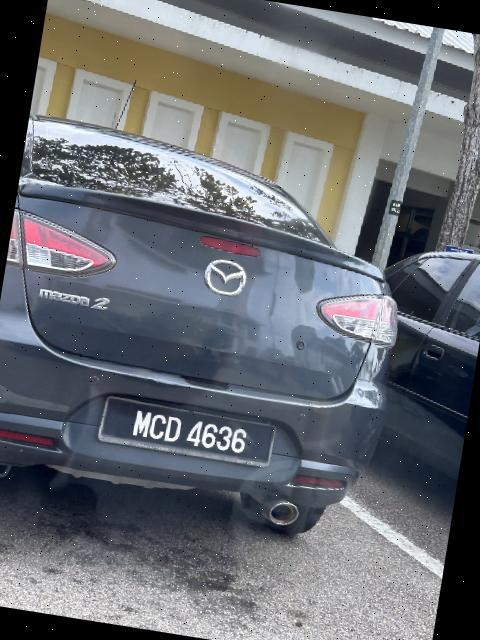License_Plate: (94, 391, 283, 480)
MCD4636: (94, 391, 283, 480)
car: (1, 102, 431, 563)
